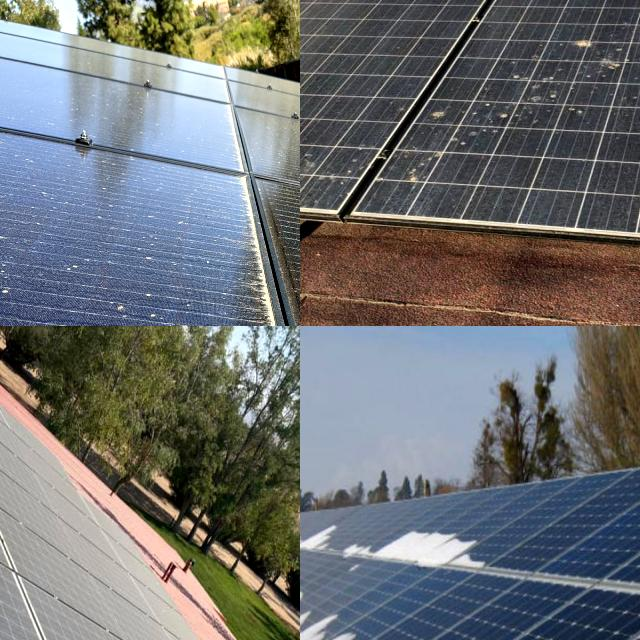dust: (414, 44, 575, 172), (0, 190, 170, 298), (0, 70, 206, 125), (1, 508, 82, 626), (0, 425, 56, 566), (93, 572, 169, 640), (0, 326, 49, 408), (300, 137, 354, 205), (600, 0, 640, 89), (0, 405, 36, 494)
panel: (394, 522, 496, 604), (300, 589, 353, 640), (338, 533, 386, 583), (300, 570, 330, 640), (300, 517, 337, 562), (300, 538, 334, 584), (300, 516, 328, 559), (327, 625, 372, 640)
